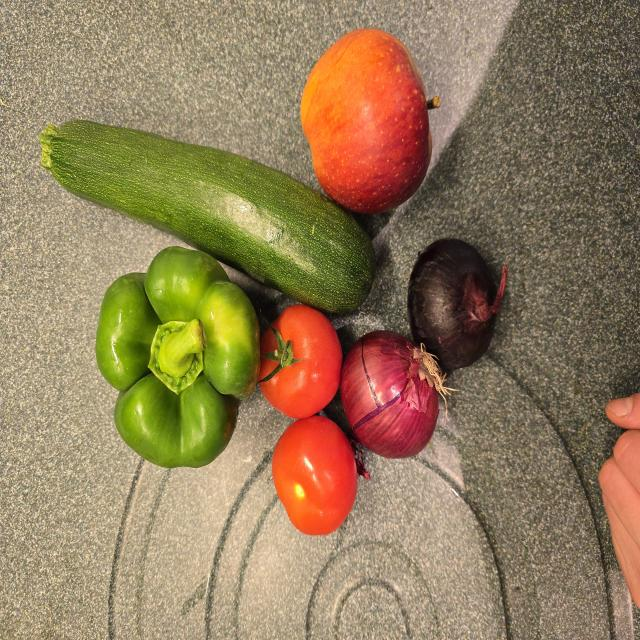Apple: (301, 29, 432, 213)
Bell Pepper: (95, 245, 262, 469)
Courgette: (40, 121, 375, 313)
Onion: (408, 238, 500, 375), (340, 331, 439, 458)
Tomato: (272, 416, 357, 535), (260, 304, 342, 418)
